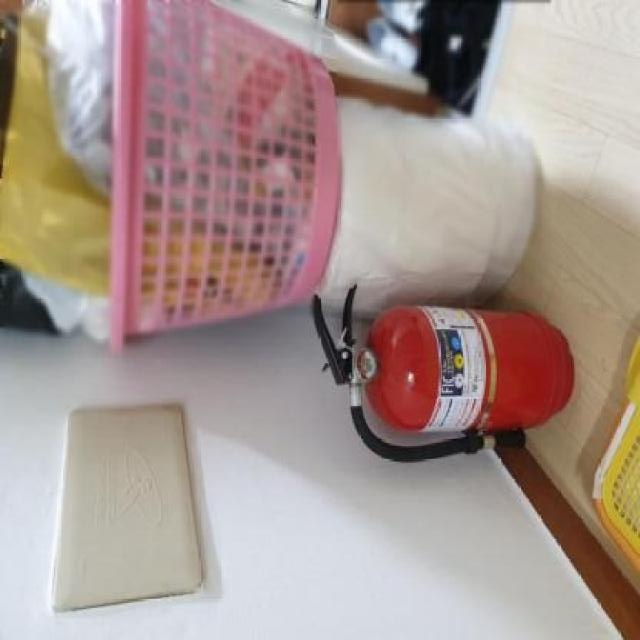fire extinguisher: (309, 284, 575, 464)
